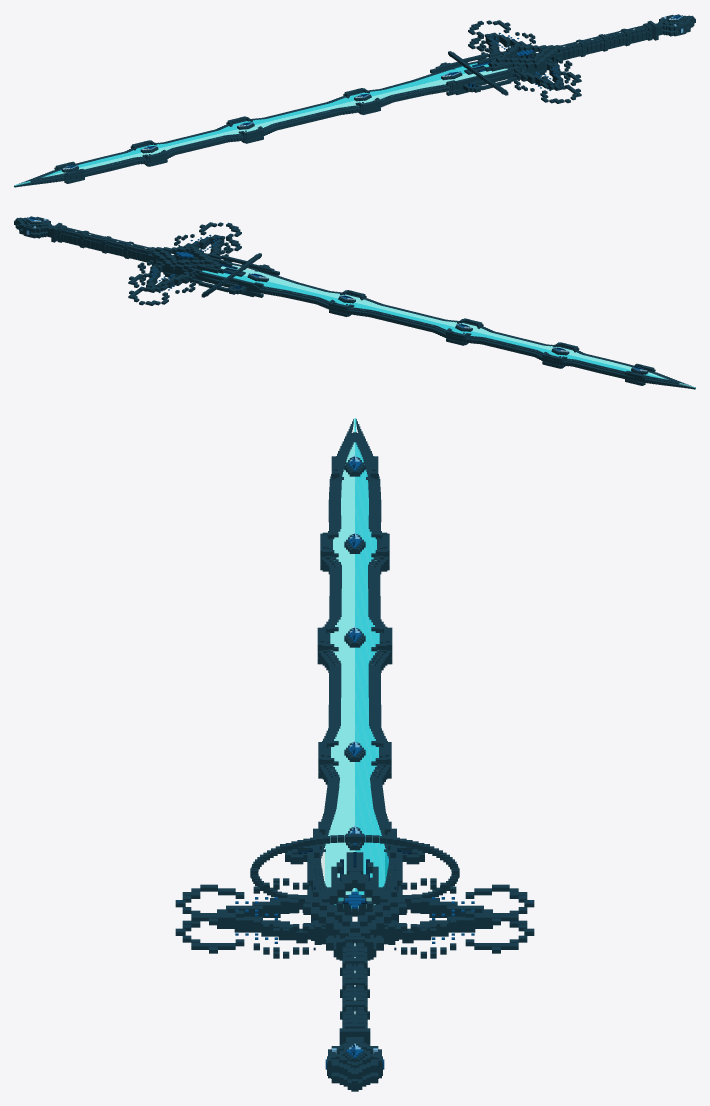
Rendered from sword.obj.
3 renders of one model, top to bottom at view 1: azimuth 30°, elevation 25°; view 2: azimuth 150°, elevation 25°; view 3: azimuth 270°, elevation 25°, orthographic. The views are drawn at different scales.
Size of the model in its own units: 1 by 0.0358 by 0.2283.
